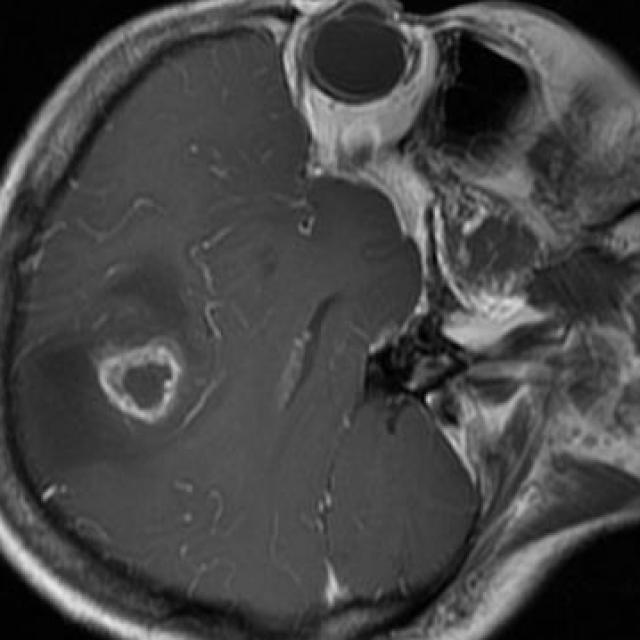glioma: (18, 258, 194, 483)
